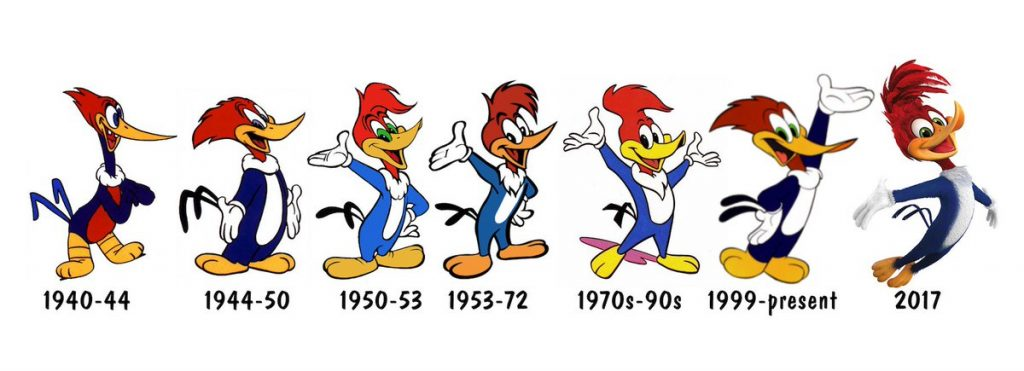picapau: (708, 54, 875, 290), (857, 53, 1024, 289), (562, 66, 707, 281), (174, 76, 318, 277), (31, 70, 166, 282), (434, 68, 561, 281), (310, 71, 438, 279)
